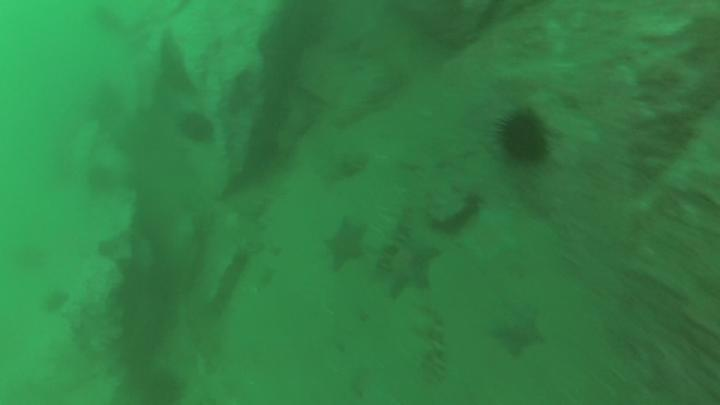echinus: (491, 106, 555, 167), (177, 110, 214, 148)
holothurian: (374, 205, 415, 275), (420, 297, 447, 383)
starfish: (378, 232, 445, 299), (319, 216, 373, 272), (493, 303, 546, 358)
